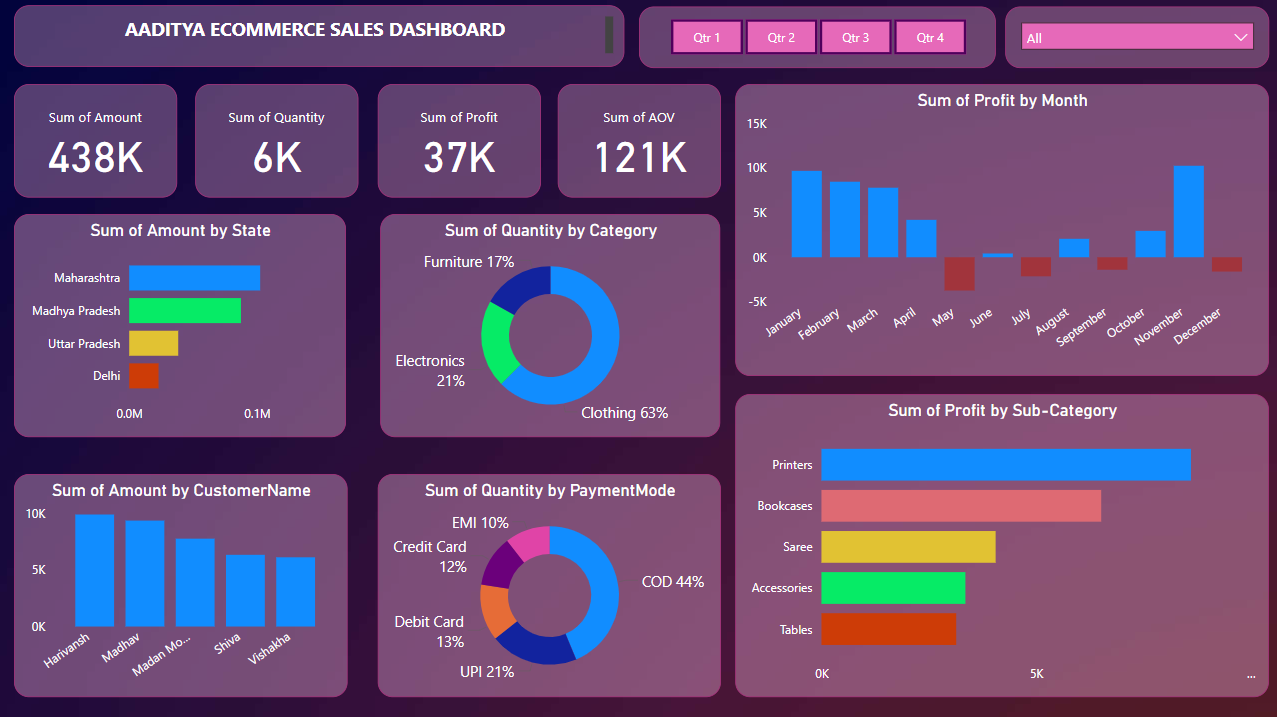

Layout of this report page (visuals, bound fields, positions):
{"tool":"powerbi","page":{"name":"Page 1","canvas":[1280,720],"ordinal":0},"visuals":[{"type":"textbox","box":[15,6.7,610,61.7],"z":0},{"type":"columnChart","fields":{"Y":["Details.Profit"],"Category":["Orders.Order Date.Variation.Date Hierarchy.Month"]},"box":[736.7,85,533.3,291.7],"z":1000},{"type":"barChart","fields":{"Category":["Details.Sub-Category"],"Y":["Details.Profit"]},"box":[736.7,395,533.3,303.3],"z":2000},{"type":"donutChart","fields":{"Category":["Details.Category"],"Y":["Details.Quantity"]},"box":[381.7,215,340,223.3],"z":3000},{"type":"donutChart","fields":{"Category":["Details.PaymentMode"],"Y":["Details.Quantity"]},"box":[378.3,475,343.3,223.3],"z":4000},{"type":"cardVisual","fields":{"Data":["Details.Amount"]},"box":[15,85,163.3,113.3],"z":5000},{"type":"cardVisual","fields":{"Data":["Details.Quantity"]},"box":[196.7,85,163.3,113.3],"z":6000},{"type":"cardVisual","fields":{"Data":["Details.Profit"]},"box":[378.3,85,163.3,113.3],"z":7000},{"type":"cardVisual","fields":{"Data":["Details.AOV"]},"box":[558.3,85,163.3,113.3],"z":8000},{"type":"barChart","fields":{"Y":["Details.Amount"],"Category":["Orders.State"]},"box":[15,215,331.7,223.3],"z":9000},{"type":"columnChart","fields":{"Category":["Orders.CustomerName"],"Y":["Details.Amount"]},"box":[15,475,333.3,223.3],"z":10000},{"type":"slicer","fields":{"Values":["Orders.Order Date.Variation.Date Hierarchy.Quarter"]},"box":[640,7.1,357.1,61.4],"z":11000},{"type":"slicer","fields":{"Values":["Orders.State"]},"box":[1005.7,7.1,264.3,61.4],"z":12000}]}

Visuals, with their boxes in screenshot pixels (x1, y1, x2, y2), scaled from the page's 1280x720 canvas onto the 1277x717 screenshot:
textbox: box(15, 7, 624, 68)
columnChart - Details.Profit x Orders.Order Date.Variation.Date Hierarchy.Month: box(735, 85, 1267, 375)
barChart - Details.Sub-Category x Details.Profit: box(735, 393, 1267, 695)
donutChart - Details.Category x Details.Quantity: box(381, 214, 720, 436)
donutChart - Details.PaymentMode x Details.Quantity: box(377, 473, 720, 695)
cardVisual - Details.Amount: box(15, 85, 178, 197)
cardVisual - Details.Quantity: box(196, 85, 359, 197)
cardVisual - Details.Profit: box(377, 85, 540, 197)
cardVisual - Details.AOV: box(557, 85, 720, 197)
barChart - Details.Amount x Orders.State: box(15, 214, 346, 436)
columnChart - Orders.CustomerName x Details.Amount: box(15, 473, 347, 695)
slicer - Orders.Order Date.Variation.Date Hierarchy.Quarter: box(638, 7, 995, 68)
slicer - Orders.State: box(1003, 7, 1267, 68)
